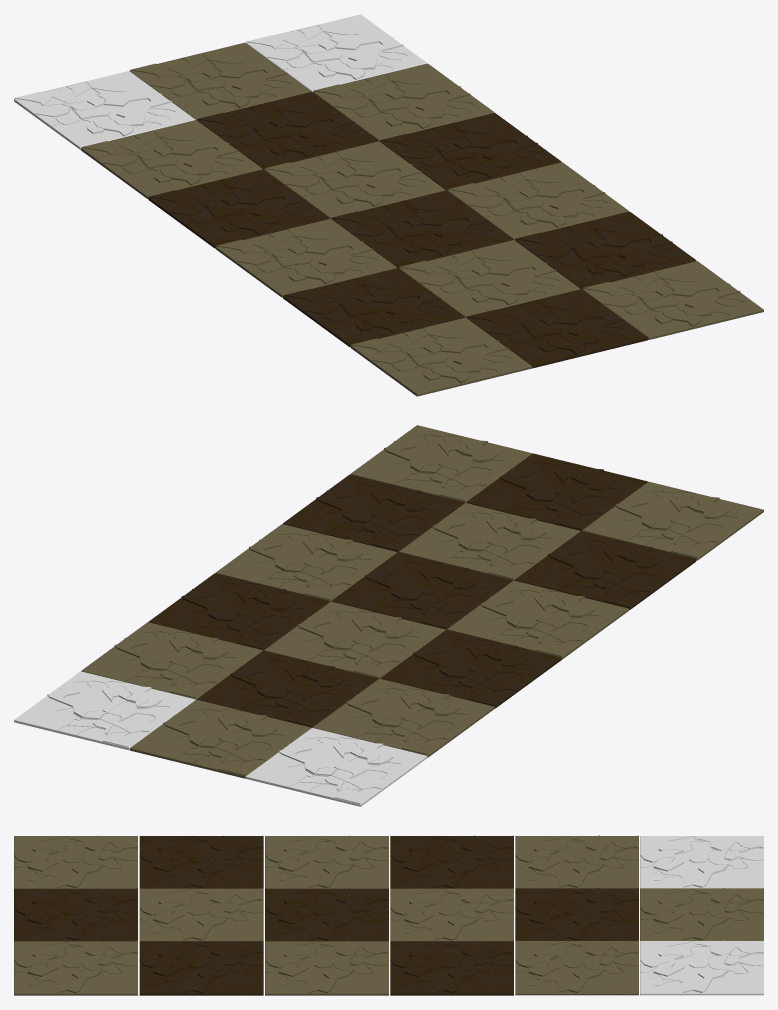
Rendered from tiles.fbx.
The picture shows the model from 3 angles, top to bottom: view 1: azimuth 30°, elevation 25°; view 2: azimuth 150°, elevation 25°; view 3: azimuth 270°, elevation 25°; orthographic projection. The views are drawn at different scales.
Visible parts, largest first — view 1: Plane.015, Plane.017, Plane.016, Plane.012, Plane.009, Plane.003, Plane.006, Plane.018, Plane.014, Plane.011, Plane.005, Plane.013 (+6 smaller); view 2: Plane.018, Plane.002, Plane.001, Plane.015, Plane.012, Plane.009, Plane.003, Plane.006, Plane.014, Plane.017, Plane.016, Plane.013 (+6 smaller); view 3: Plane.014, Plane.002, Plane.005, Plane.008, Plane.011, Plane.017, Plane.013, Plane.007, Plane.016, Plane.010, Plane.012, Plane.003 (+6 smaller).
Part boxes in pixels (box(x1,y1,x2,y2)): Plane.015: box(350, 317, 532, 396); Plane.017: box(582, 261, 763, 339); Plane.016: box(466, 289, 647, 368); Plane.012: box(283, 268, 464, 347); Plane.009: box(215, 218, 397, 297); Plane.003: box(81, 120, 262, 198); Plane.006: box(148, 169, 329, 248); Plane.018: box(14, 71, 195, 149); Plane.014: box(515, 211, 696, 289); Plane.011: box(447, 162, 628, 239); Plane.005: box(313, 63, 494, 141); Plane.013: box(399, 240, 580, 317); Plane.018: box(245, 728, 427, 806); Plane.002: box(14, 671, 195, 750); Plane.001: box(130, 699, 311, 778); Plane.015: box(582, 481, 763, 560); Plane.012: box(514, 531, 696, 609); Plane.009: box(447, 580, 628, 659); Plane.003: box(312, 678, 494, 757); Plane.006: box(380, 629, 561, 708); Plane.014: box(283, 474, 464, 552); Plane.017: box(350, 425, 532, 502); Plane.016: box(466, 453, 647, 530); Plane.013: box(399, 503, 580, 580); Plane.014: box(139, 941, 263, 995); Plane.002: box(640, 940, 763, 995); Plane.005: box(515, 940, 638, 995); Plane.008: box(390, 940, 513, 995); Plane.011: box(265, 940, 388, 995); Plane.017: box(14, 941, 137, 995); Plane.013: box(139, 888, 263, 941); Plane.007: box(390, 888, 513, 941); Plane.016: box(14, 888, 137, 941); Plane.010: box(265, 888, 388, 941); Plane.012: box(139, 835, 263, 888); Plane.003: box(515, 835, 638, 888).
Size of the model in its own units: 3243 by 36.26 by 6526.
